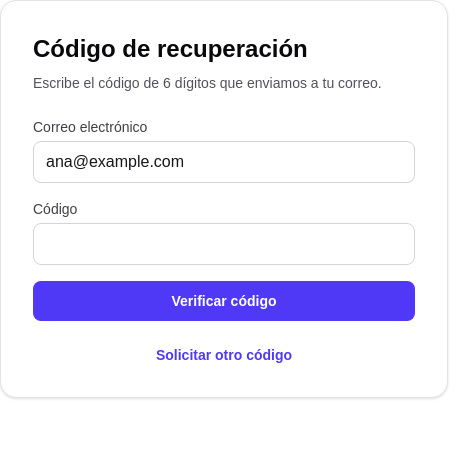
ResetCodeForm › muestra el error si el código es inválido
In the field labelled "Código": (224, 244) [33,223,415,265], type "000000"
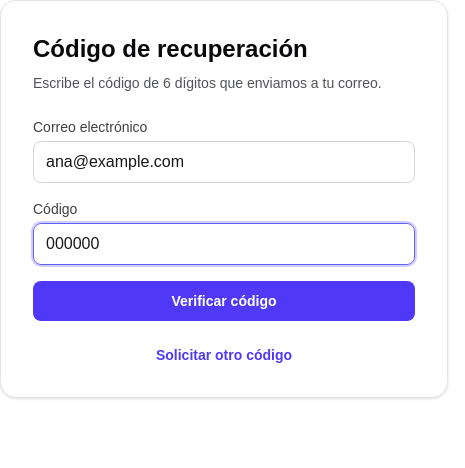
Click the button "Verificar código": click(224, 301) [33,281,415,321]
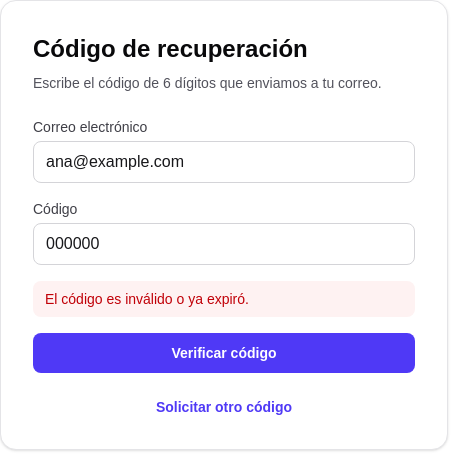
Expected: the message reads "El código es inválido o ya expiró.", [45,291,249,307]
